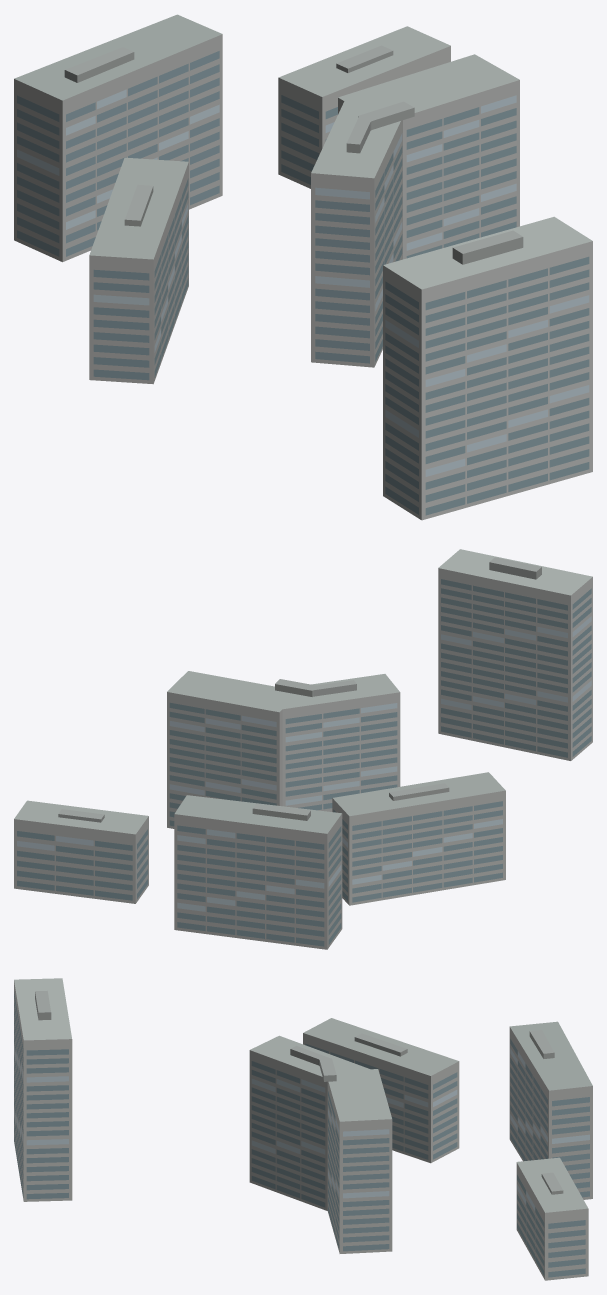
File: apt-a12009303.glb
3 renders of one model, top to bottom at view 1: azimuth 30°, elevation 25°; view 2: azimuth 150°, elevation 25°; view 3: azimuth 270°, elevation 25°, orthographic. The views are drawn at different scales.
Visible parts, largest first — view 1: apt-a12009303; view 2: apt-a12009303; view 3: apt-a12009303.
Boxes of the visible parts, bbox=[...] form: apt-a12009303: bbox=[14, 14, 592, 520]; apt-a12009303: bbox=[14, 549, 592, 949]; apt-a12009303: bbox=[14, 978, 592, 1280].
Bounding box in the file's own units: 111 × 50 × 155.
